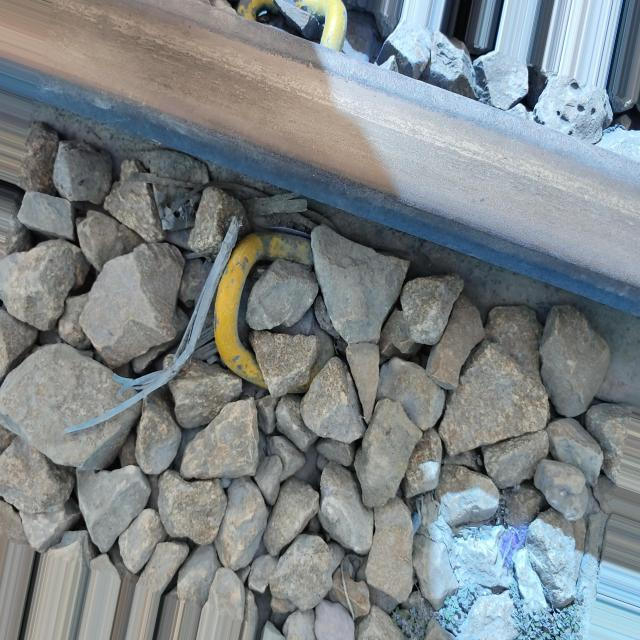squats_high: (479, 196, 486, 203)
